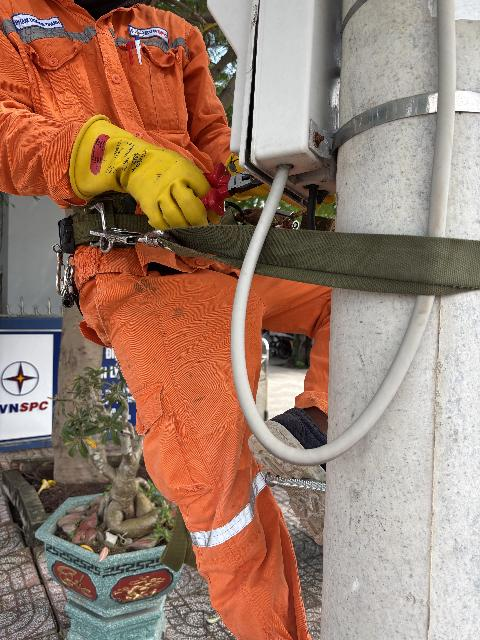gloves: (47, 113, 211, 248)
harness: (43, 184, 300, 270)
shoes: (259, 383, 353, 554)
